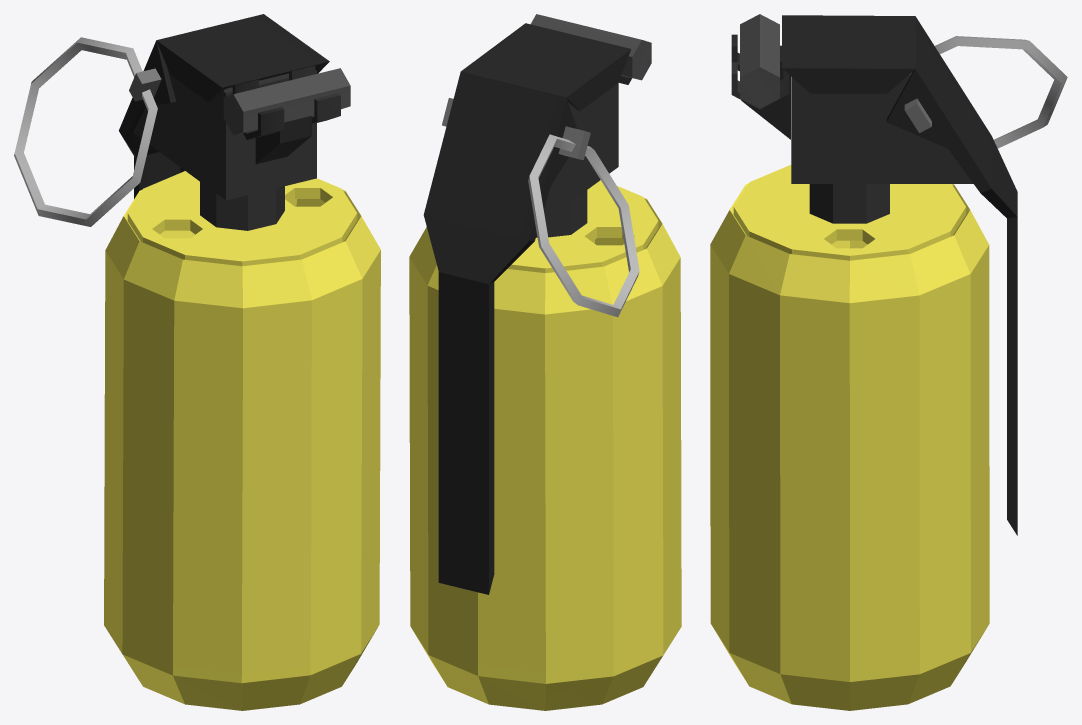
The model's file is Gas2.FBX.
The picture shows the model from 3 angles, left to right: view 1: azimuth 30°, elevation 25°; view 2: azimuth 150°, elevation 25°; view 3: azimuth 270°, elevation 25°; orthographic projection. The views are drawn at different scales.
Parts seen in each view (by area): view 1: Cylinder028, Sphere016, Object041, Object042; view 2: Cylinder028, Sphere016, Object041, Object042; view 3: Cylinder028, Sphere016, Object041, Object042.
Part boxes in pixels (<box>): Cylinder028: <box>104,171,380,710</box>; Sphere016: <box>119,14,350,230</box>; Object041: <box>14,37,157,226</box>; Object042: <box>129,68,161,101</box>; Cylinder028: <box>409,180,681,710</box>; Sphere016: <box>423,14,651,594</box>; Object041: <box>528,134,639,317</box>; Object042: <box>442,98,590,160</box>; Cylinder028: <box>710,165,989,710</box>; Sphere016: <box>731,14,1017,535</box>; Object041: <box>935,36,1067,148</box>; Object042: <box>904,98,931,132</box>.
Size of the model in its own units: 0.1348 by 0.3033 by 0.1582.
